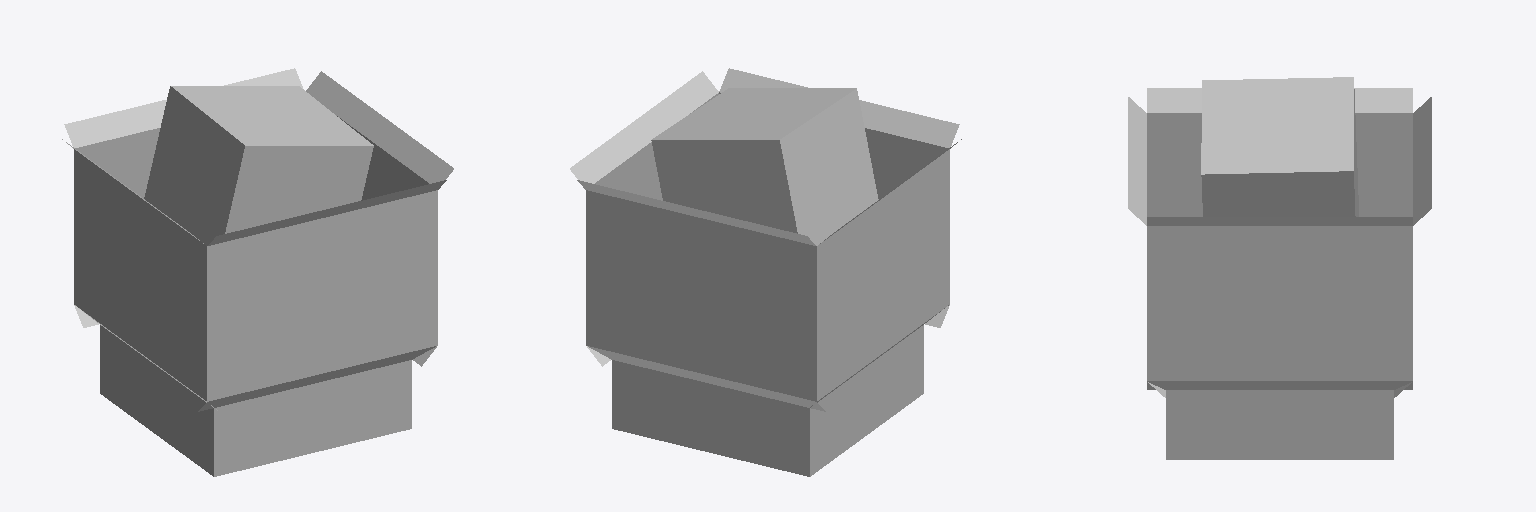
File: item.obj
The picture shows the model from 3 angles: view 1: azimuth 30°, elevation 25°; view 2: azimuth 150°, elevation 25°; view 3: azimuth 270°, elevation 25°; orthographic projection.
Parts seen in each view (by area): view 1: cube4, cube; view 2: cube4, cube; view 3: cube4, cube.
Boxes of the visible parts, x1=… form: cube4: x1=62, y1=68, x2=453, y2=476; cube: x1=144, y1=86, x2=373, y2=245; cube4: x1=570, y1=68, x2=961, y2=476; cube: x1=651, y1=88, x2=878, y2=245; cube4: x1=1128, y1=88, x2=1431, y2=459; cube: x1=1201, y1=77, x2=1358, y2=216.
Bounding box in the file's own units: 1 × 1.12 × 1.